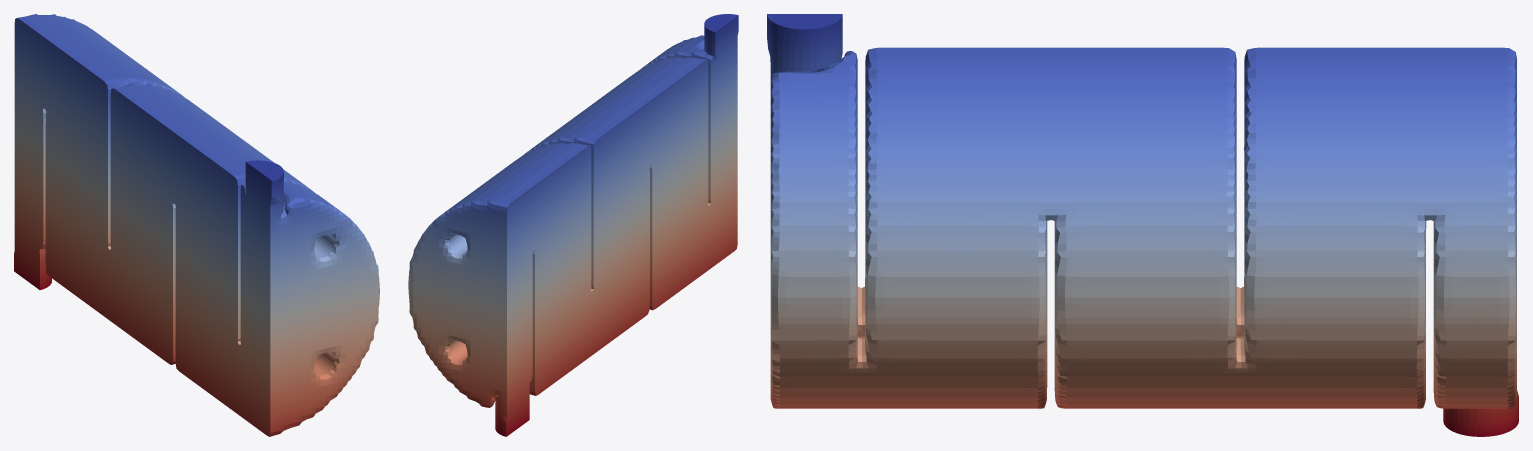
The model's file is Shape_IndexedFaceSet.005reference_velocity.py_timestep3_time30.0_.fbx.
The picture shows the model from 3 angles, left to right: view 1: azimuth 30°, elevation 25°; view 2: azimuth 150°, elevation 25°; view 3: azimuth 270°, elevation 25°; orthographic projection. The views are drawn at different scales.
Visible parts, largest first — view 1: Shape_IndexedFaceSet.005; view 2: Shape_IndexedFaceSet.005; view 3: Shape_IndexedFaceSet.005.
Part boxes in pixels (left/top/right/bottom): Shape_IndexedFaceSet.005: left=14, top=14, right=379, bottom=436; Shape_IndexedFaceSet.005: left=408, top=14, right=738, bottom=436; Shape_IndexedFaceSet.005: left=767, top=14, right=1518, bottom=436.
Size of the model in its own units: 24.98 by 59.33 by 99.2.
